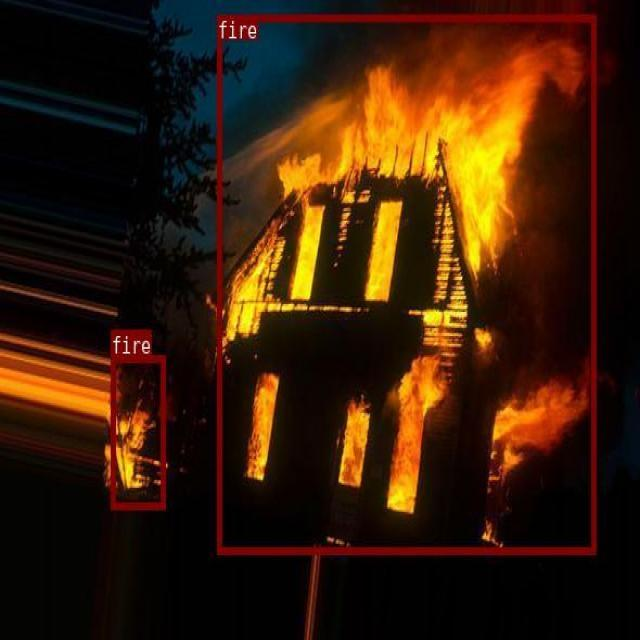fire: (217, 14, 595, 553), (110, 355, 165, 508)
